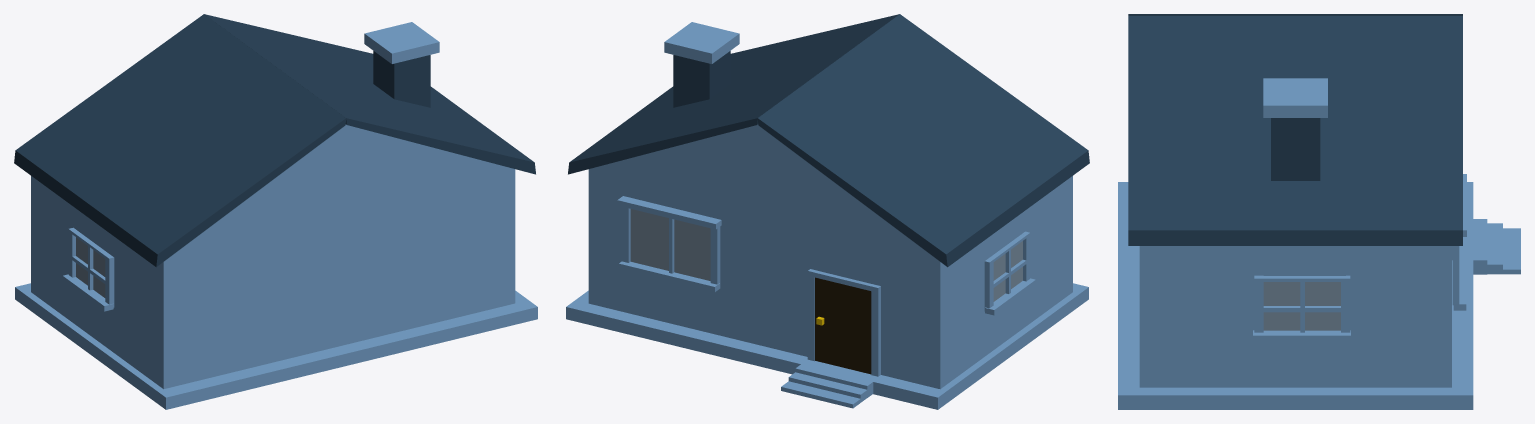
Rendered from Blue Roof House FBX.fbx.
3 views of the same model, side by side, from view 1: azimuth 30°, elevation 25°; view 2: azimuth 150°, elevation 25°; view 3: azimuth 270°, elevation 25° (orthographic). The views are drawn at different scales.
Parts seen in each view (by area): view 1: pasted__pCube1; view 2: pasted__pCube1; view 3: pasted__pCube1.
Part boxes in pixels (x1,y1,x2,y2): pasted__pCube1: (14, 14, 537, 409); pasted__pCube1: (566, 14, 1089, 409); pasted__pCube1: (1118, 14, 1520, 409).
Size of the model in its own units: 10.44 by 6.4 by 8.15.
